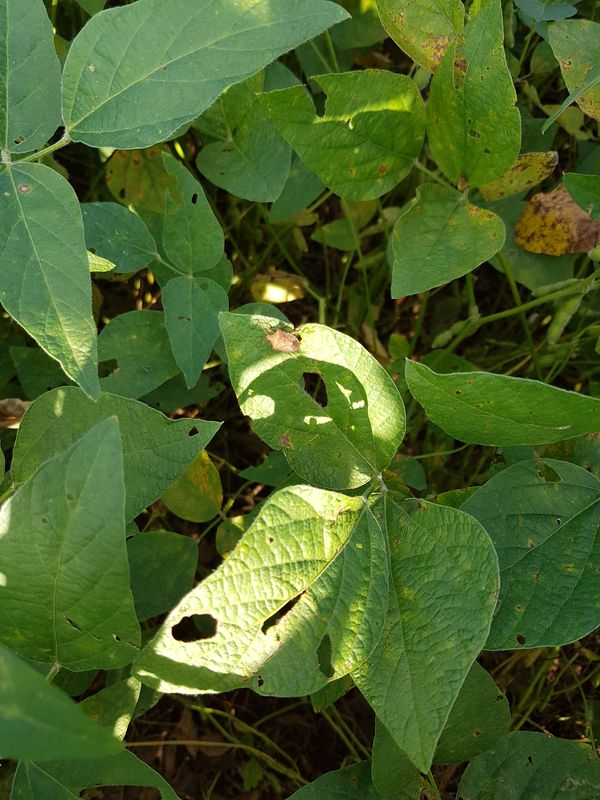Euschistus_heros_adulto: (254, 320, 310, 366)
